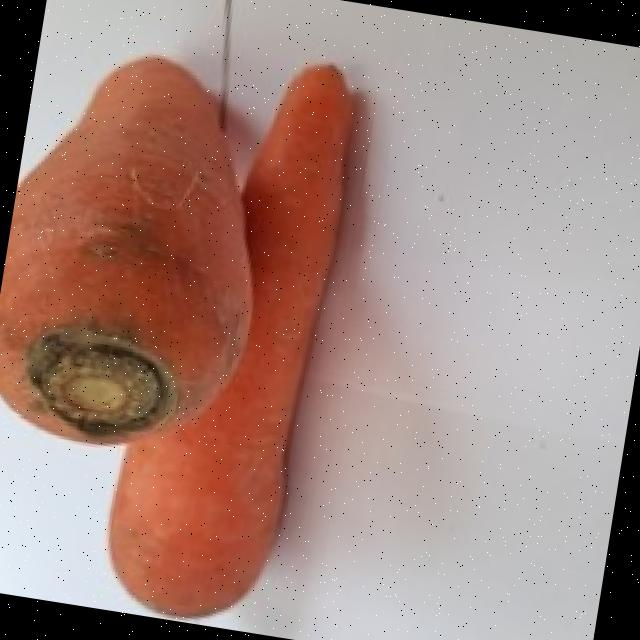carrot: (105, 69, 348, 619), (0, 63, 246, 446)
